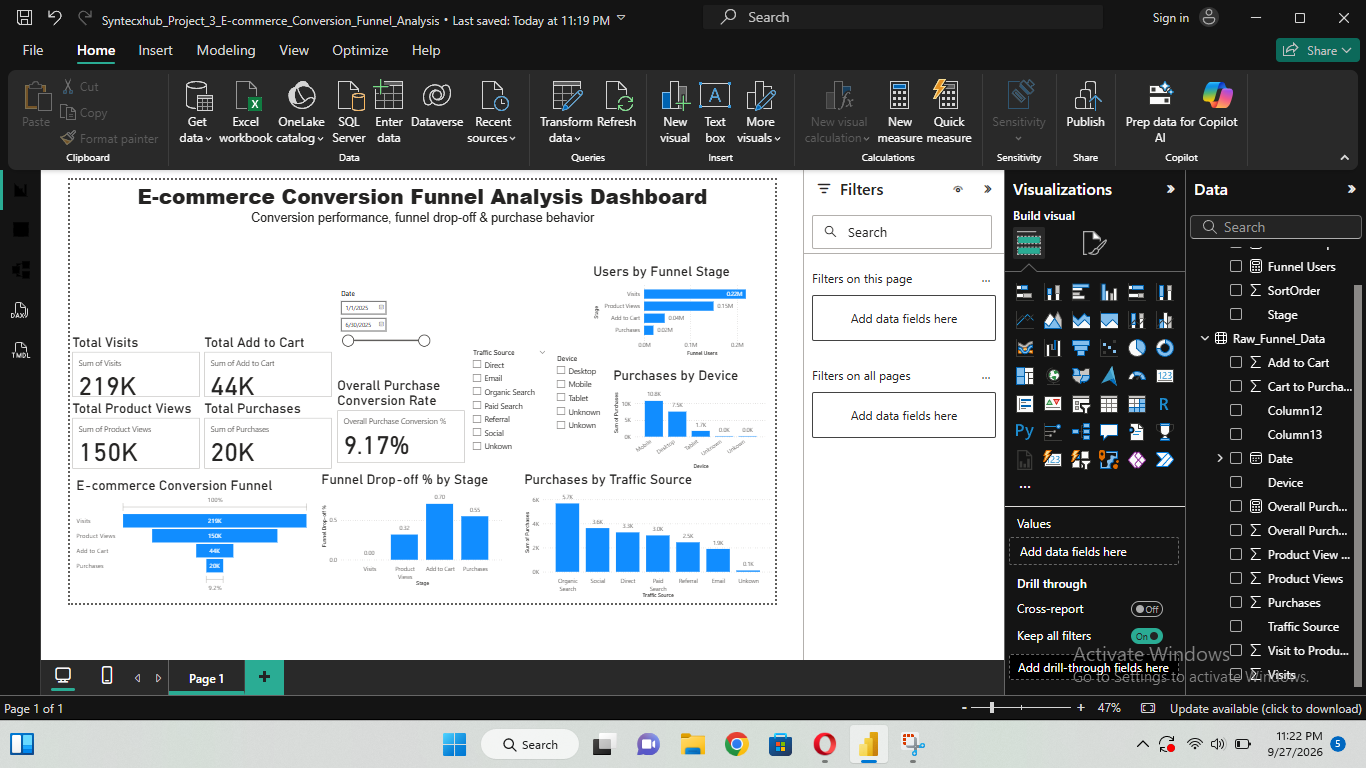

This screenshot's page, from the dashboard's own definition file:
{"tool":"powerbi","page":{"name":"Page 1","canvas":[1500,900],"ordinal":0},"visuals":[{"type":"cardVisual","title":"Total Visits","fields":{"Data":["Sum(Raw_Funnel_Data.Visits)"]},"box":[0,327.6,281,139.7],"z":0},{"type":"cardVisual","title":"Total Product Views","fields":{"Data":["Sum(Raw_Funnel_Data.Product Views)"]},"box":[0,467.4,281.4,151.2],"z":1000},{"type":"cardVisual","title":"Total Add to Cart","fields":{"Data":["Sum(Raw_Funnel_Data.Add to Cart)"]},"box":[281.4,327.9,281.4,139.5],"z":2000},{"type":"cardVisual","title":"Total Purchases","fields":{"Data":["Sum(Raw_Funnel_Data.Purchases)"]},"box":[281.4,467.4,281.4,151.2],"z":3000},{"type":"cardVisual","title":"Overall Purchase Conversion Rate","fields":{"Data":["Raw_Funnel_Data.Overall Purchase Conversion %"]},"box":[562.8,418.6,281.4,188.4],"z":4000},{"type":"funnel","title":"E-commerce Conversion Funnel","fields":{"Category":["FunnelStages.Stage"],"Y":["FunnelStages.Funnel Users"]},"box":[9.3,632.6,504.7,248.8],"z":5000},{"type":"clusteredColumnChart","fields":{"Category":["FunnelStages.Stage"],"Y":["FunnelStages.Funnel Drop-off %"]},"box":[530.2,618.6,397.7,248.8],"z":6000},{"type":"slicer","fields":{"Values":["Raw_Funnel_Data.Traffic Source"]},"box":[844.2,355.8,179.1,251.2],"z":6001},{"type":"slicer","fields":{"Values":["Raw_Funnel_Data.Device"]},"box":[1023.3,367.4,139.5,239.5],"z":6002},{"type":"slicer","fields":{"Values":["Raw_Funnel_Data.Date"]},"box":[562.8,230.2,211.6,188.4],"z":6003},{"type":"clusteredColumnChart","title":"Purchases by Traffic Source","fields":{"Category":["Raw_Funnel_Data.Traffic Source"],"Y":["Sum(Raw_Funnel_Data.Purchases)"]},"box":[961.7,619.1,538.3,274.5],"z":6004},{"type":"clusteredColumnChart","title":"Purchases by Device","fields":{"Category":["Raw_Funnel_Data.Device"],"Y":["Sum(Raw_Funnel_Data.Purchases)"]},"box":[1151.1,397.9,336.2,221.3],"z":6005},{"type":"clusteredBarChart","title":"Users by Funnel Stage","fields":{"Category":["FunnelStages.Stage"],"Y":["FunnelStages.Funnel Users"]},"box":[1108.5,176.6,378.7,202.1],"z":6006},{"type":"textbox","box":[0,0,1500,151.1],"z":6007}]}

Visuals, with their boxes on the page's 1500x900 design canvas (x1, y1, x2, y2). These are canvas units, not pixel positions in the 1366x768 screenshot, which may show the page scaled, cropped or inside an application window:
"Total Visits" cardVisual: bbox=(0, 328, 281, 467)
"Total Product Views" cardVisual: bbox=(0, 467, 281, 619)
"Total Add to Cart" cardVisual: bbox=(281, 328, 563, 467)
"Total Purchases" cardVisual: bbox=(281, 467, 563, 619)
"Overall Purchase Conversion Rate" cardVisual: bbox=(563, 419, 844, 607)
"E-commerce Conversion Funnel" funnel: bbox=(9, 633, 514, 881)
clusteredColumnChart - FunnelStages.Stage x FunnelStages.Funnel Drop-off %: bbox=(530, 619, 928, 867)
slicer - Raw_Funnel_Data.Traffic Source: bbox=(844, 356, 1023, 607)
slicer - Raw_Funnel_Data.Device: bbox=(1023, 367, 1163, 607)
slicer - Raw_Funnel_Data.Date: bbox=(563, 230, 774, 419)
"Purchases by Traffic Source" clusteredColumnChart: bbox=(962, 619, 1500, 894)
"Purchases by Device" clusteredColumnChart: bbox=(1151, 398, 1487, 619)
"Users by Funnel Stage" clusteredBarChart: bbox=(1108, 177, 1487, 379)
textbox: bbox=(0, 0, 1500, 151)
